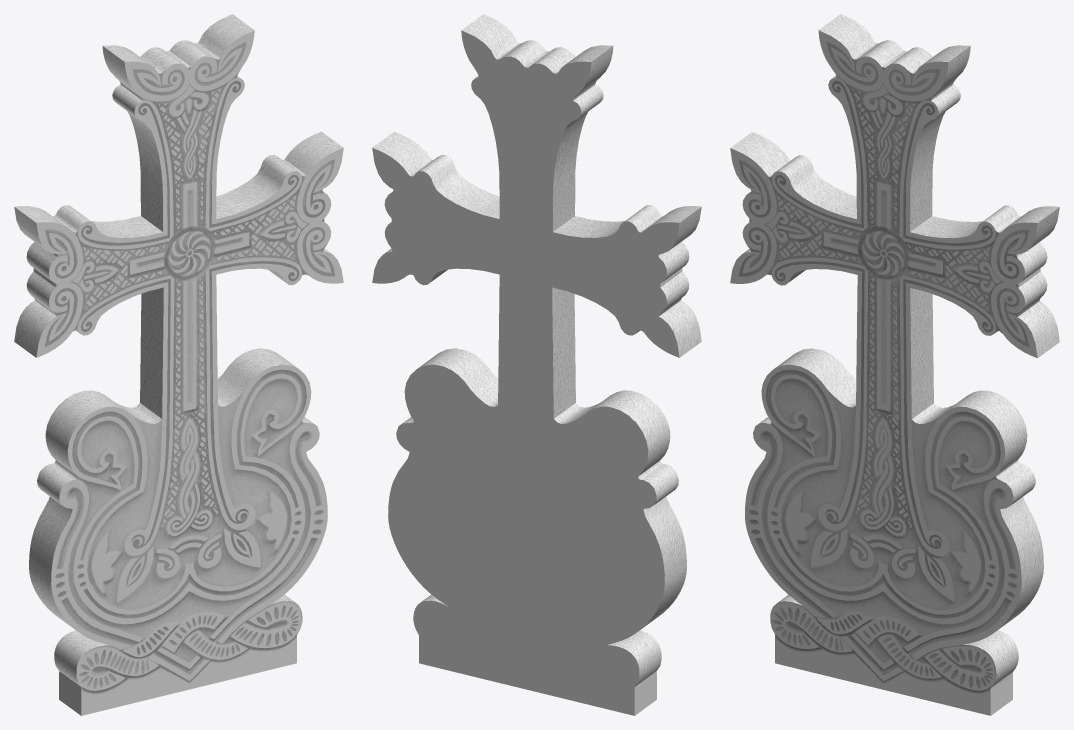
Rendered from cn4bb3815a39_tkf.glb.
3 views of the same model, side by side, from view 1: azimuth 30°, elevation 25°; view 2: azimuth 150°, elevation 25°; view 3: azimuth 330°, elevation 25° (orthographic).
Parts seen in each view (by area): view 1: Pam-d02-066_2_notexture, Pam-d02-066; view 2: Pam-d02-066, Pam-d02-066_2_notexture; view 3: Pam-d02-066_2_notexture, Pam-d02-066.
Boxes of the visible parts, bbox=[...] form: Pam-d02-066_2_notexture: bbox=[14, 14, 343, 694]; Pam-d02-066: bbox=[36, 30, 343, 715]; Pam-d02-066: bbox=[372, 30, 679, 715]; Pam-d02-066_2_notexture: bbox=[372, 14, 701, 690]; Pam-d02-066_2_notexture: bbox=[730, 14, 1059, 693]; Pam-d02-066: bbox=[730, 30, 1037, 715].
Size of the model in its own units: 0.4 by 0.8 by 0.05.
1 material, 1 textured.
